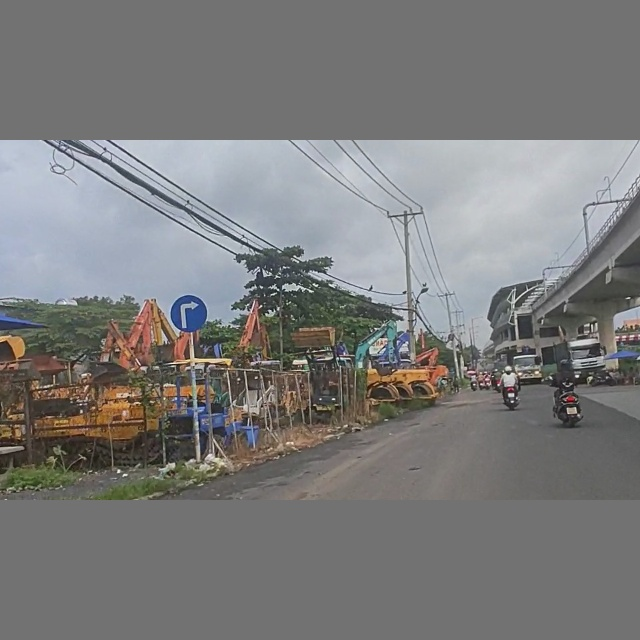R.301e: (170, 293, 209, 333)
